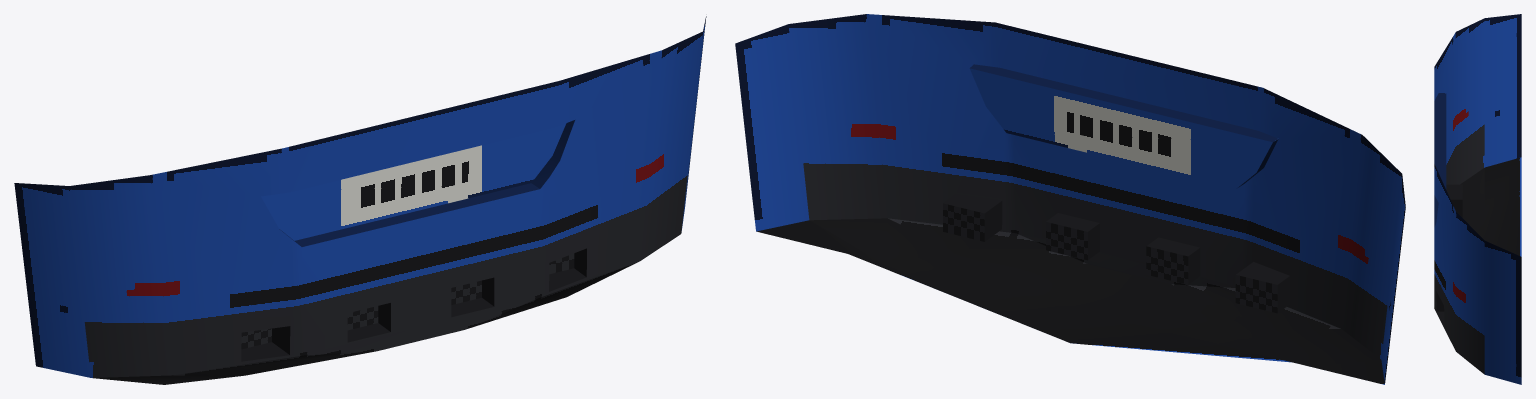
Rendered from bumper_R_diffuser.glb.
3 renders of one model, left to right at view 1: azimuth 30°, elevation 25°; view 2: azimuth 150°, elevation 25°; view 3: azimuth 270°, elevation 25°, orthographic. The views are drawn at different scales.
Parts seen in each view (by area): view 1: bumper_R_diffuser; view 2: bumper_R_diffuser; view 3: bumper_R_diffuser.
Boxes of the visible parts, x1,y1,x2,y2 form: bumper_R_diffuser: [14, 16, 706, 384]; bumper_R_diffuser: [735, 14, 1405, 384]; bumper_R_diffuser: [1434, 14, 1521, 384].
Bounding box in the file's own units: 1.6 × 0.56 × 0.243.
1 material, 1 textured.
